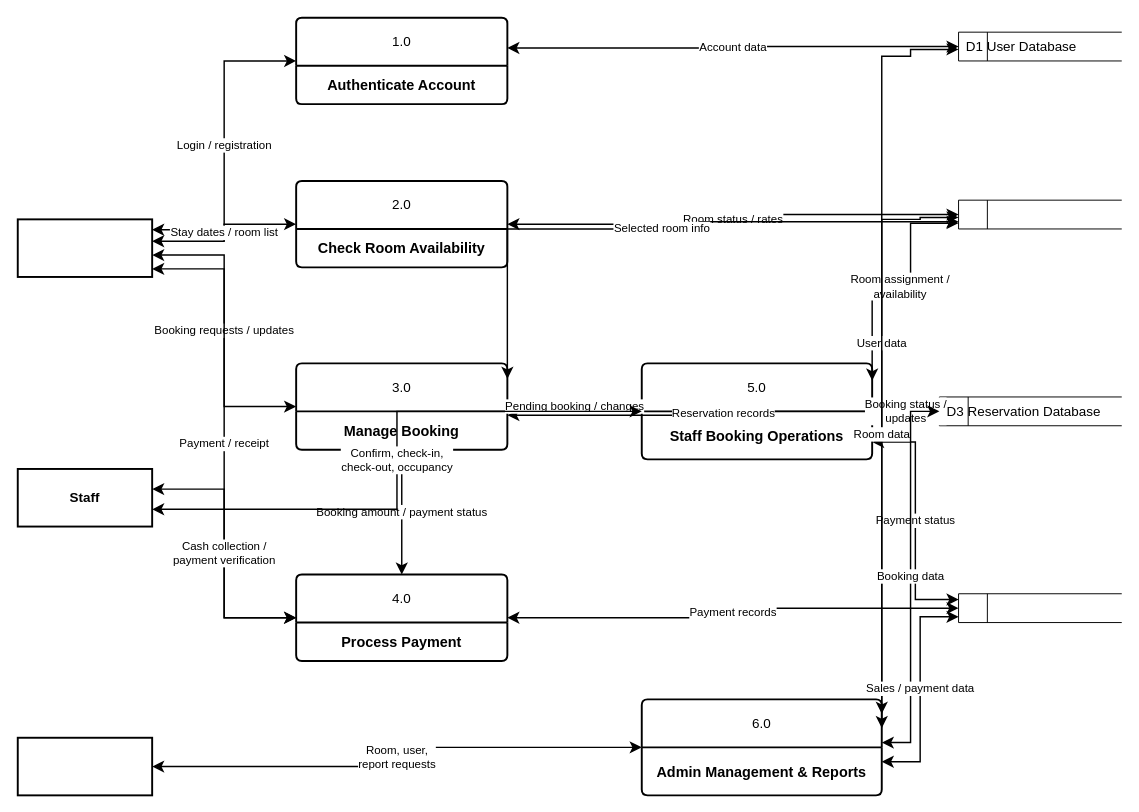
The diagram is 1139 pixels wide and 812 high, and some of its shapes have lost their labels. Here are the shapes that lost their labels. From the top down, the centre of each, then its label:
At (x=1040, y=214): "D2 Room Database".
At (x=84, y=247): "Customer".
At (x=1040, y=608): "D4 Payment Database".
At (x=84, y=766): "Administrator".
